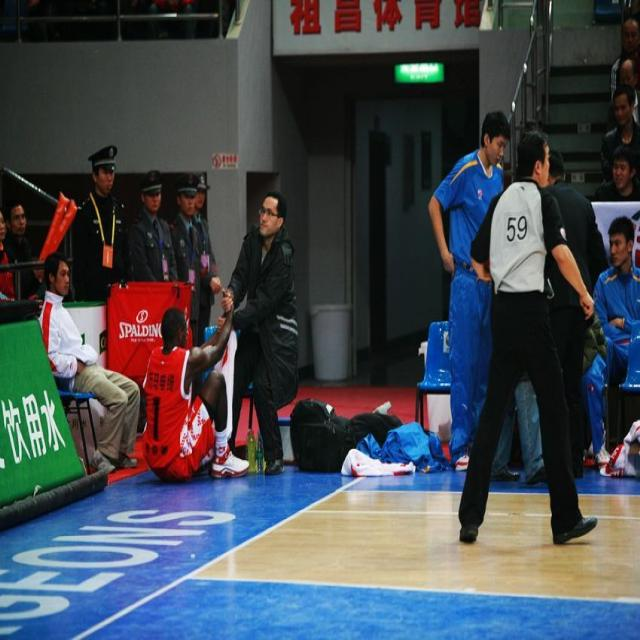10-: (1, 4, 638, 509)
down: (139, 288, 248, 480), (286, 383, 417, 477)
